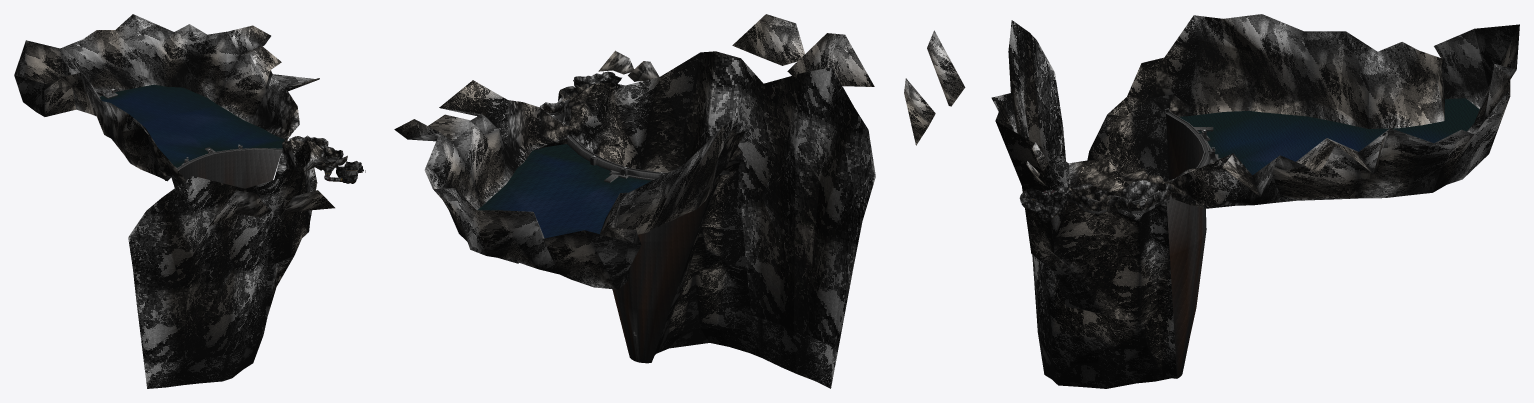
File: Dam.glb
3 views of the same model, side by side, from view 1: azimuth 30°, elevation 25°; view 2: azimuth 150°, elevation 25°; view 3: azimuth 270°, elevation 25° (orthographic). The views are drawn at different scales.
Visible parts, largest first — view 1: Dam; view 2: Dam; view 3: Dam.
Boxes of the visible parts, x1,y1,x2,y2 form: Dam: [14, 14, 365, 388]; Dam: [394, 14, 875, 388]; Dam: [904, 14, 1519, 388].
Size of the model in its own units: 1662 by 1408 by 2358.
Materials: 58 (57 with a texture image).
